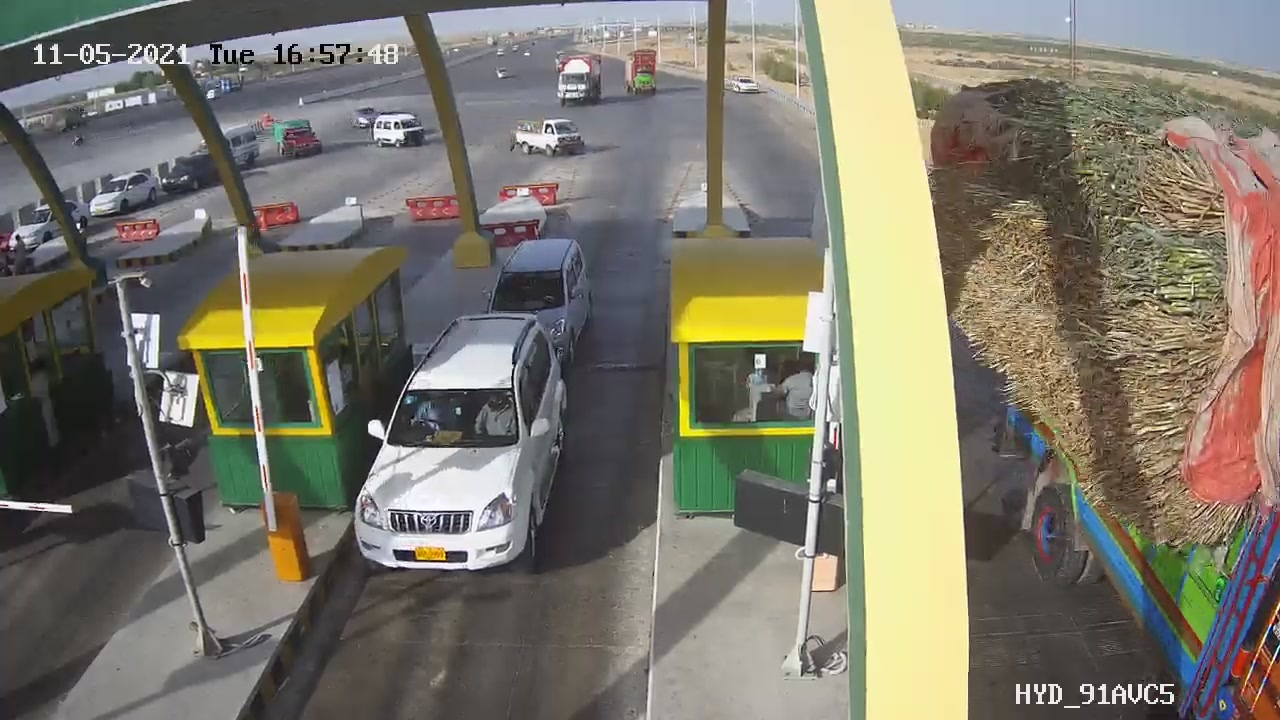F1: (335, 297, 585, 605), (467, 227, 606, 376)
